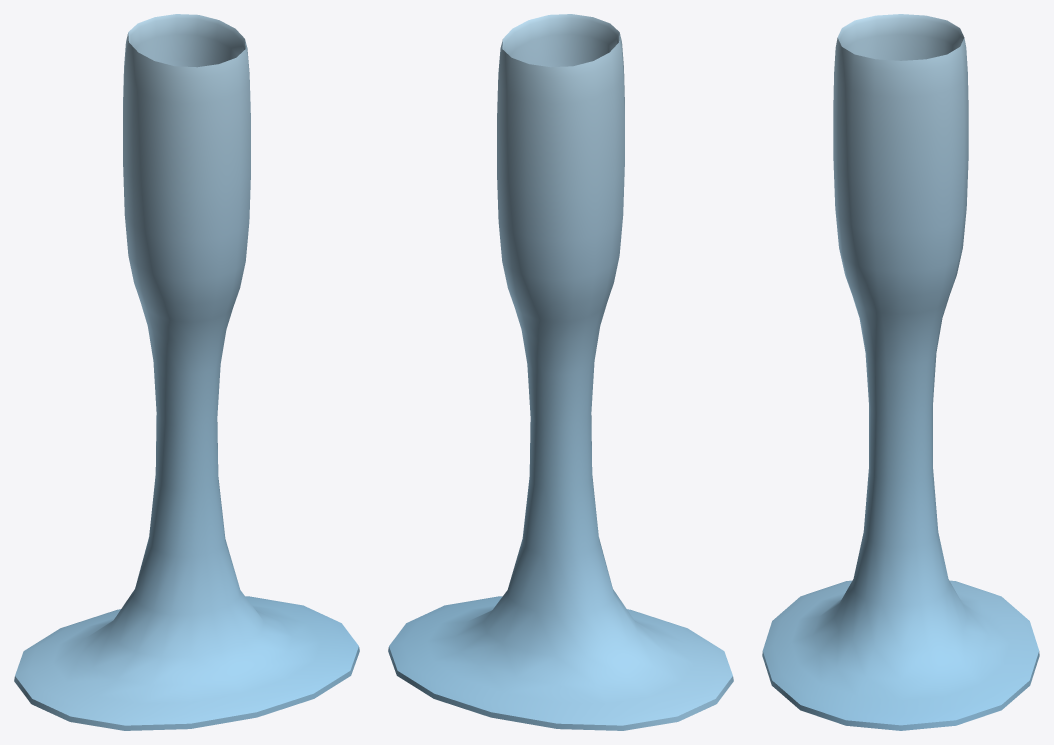
The model's file is pohar3.fbx.
3 renders of one model, left to right at view 1: azimuth 30°, elevation 25°; view 2: azimuth 150°, elevation 25°; view 3: azimuth 270°, elevation 25°, orthographic.
Visible parts, largest first — view 1: Cube; view 2: Cube; view 3: Cube.
Part boxes in pixels (x1,y1,x2,y2): Cube: (14,14,359,730); Cube: (388,14,733,730); Cube: (762,14,1039,730).
Size of the model in its own units: 0.0572 by 0.112 by 0.0447.
Materials: 1 (1 with a texture image).
